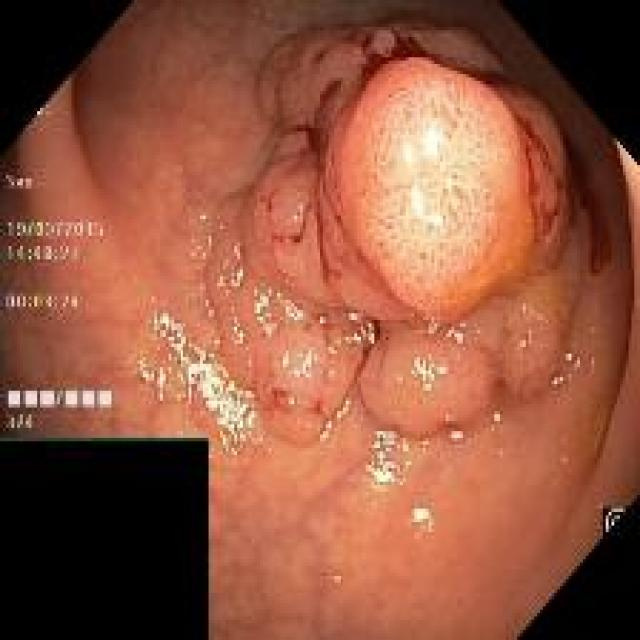Polyps: (326, 59, 536, 321)
